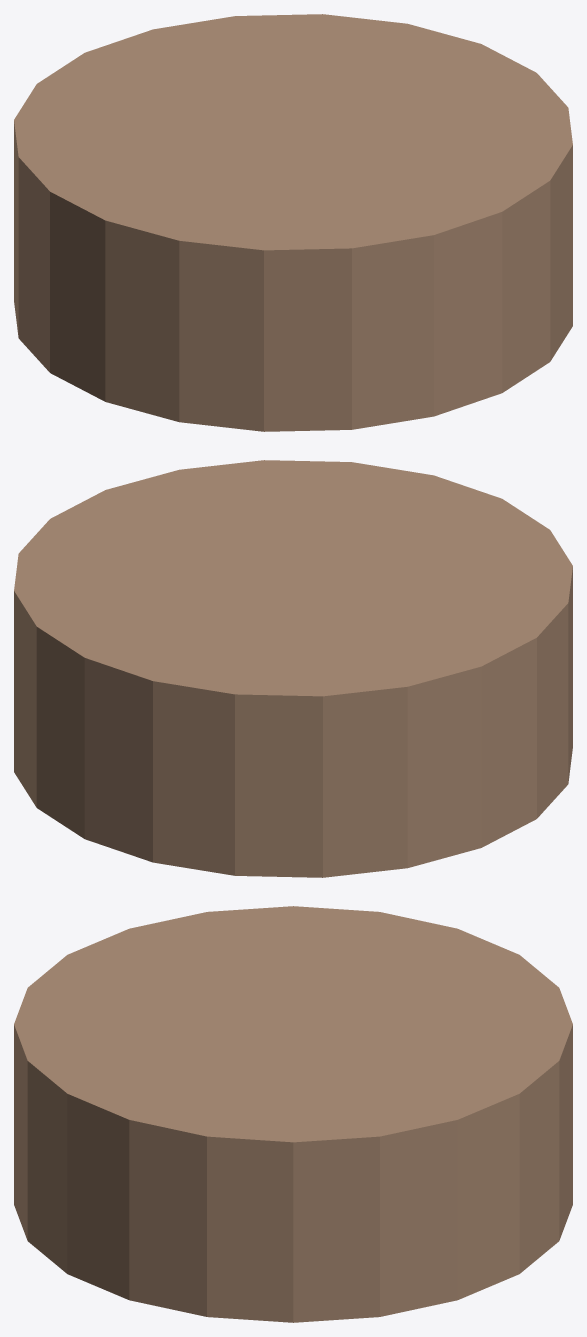
File: ue_jungle_swamp_a-mid.glb
3 views of the same model, one above another, from view 1: azimuth 30°, elevation 25°; view 2: azimuth 150°, elevation 25°; view 3: azimuth 270°, elevation 25° (orthographic).
Parts seen in each view (by area): view 1: structural-component; view 2: structural-component; view 3: structural-component.
Part boxes in pixels (x1=…): structural-component: x1=14, y1=14, x2=572, y2=431; structural-component: x1=14, y1=460, x2=572, y2=877; structural-component: x1=14, y1=906, x2=572, y2=1322.
Bounding box in the file's own units: 31 × 11.04 × 31.
